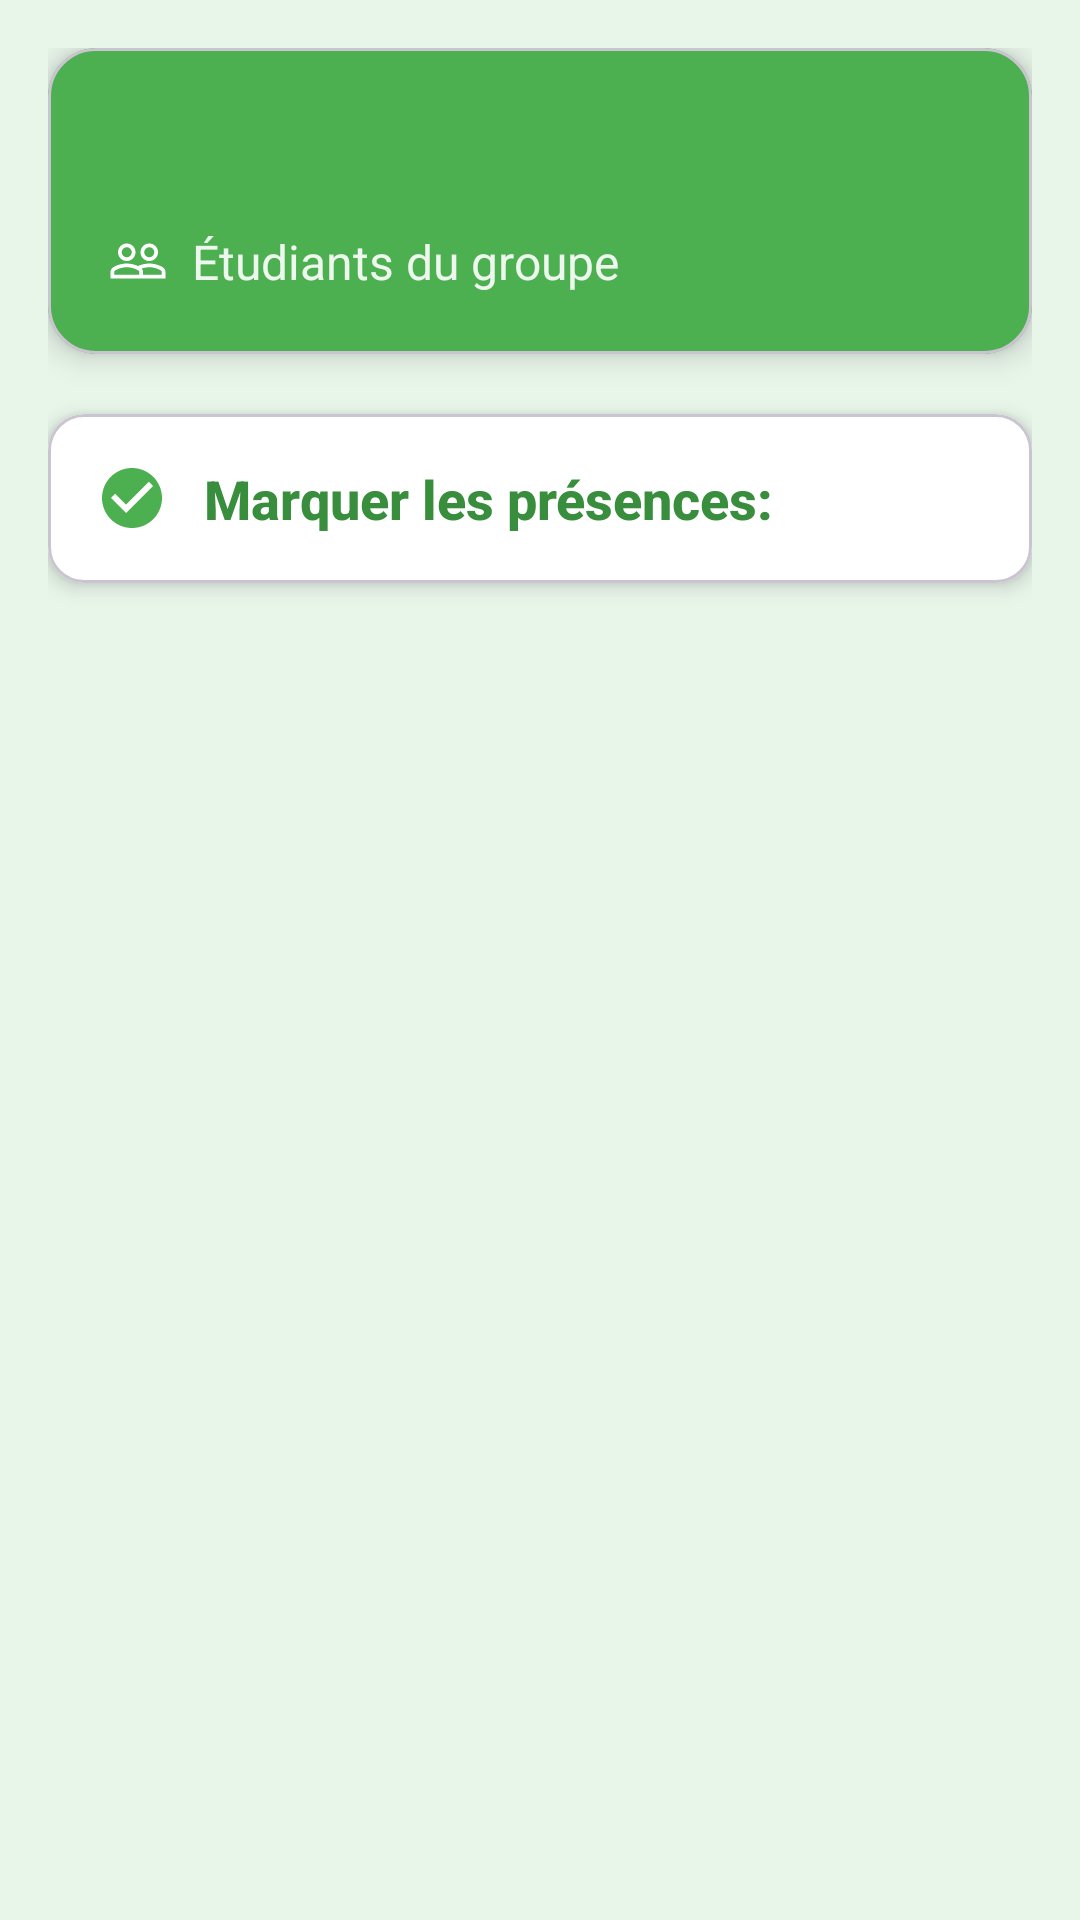

Icon bounding boxes for this 1080px x 1920px phone screenshot, format (x1, y1, x2, y2):
check circle: (102, 468, 162, 528)
people: (110, 243, 166, 279)
